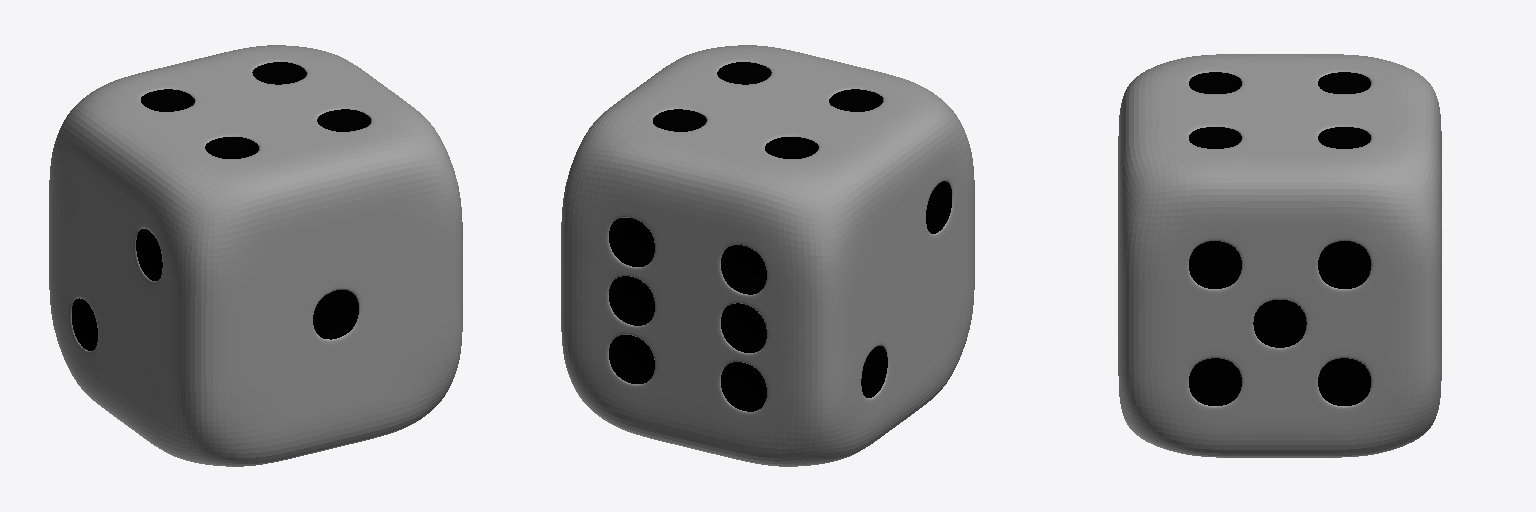
File: dice.obj
3 renders of one model, left to right at view 1: azimuth 30°, elevation 25°; view 2: azimuth 150°, elevation 25°; view 3: azimuth 270°, elevation 25°, orthographic.
Parts seen in each view (by area): view 1: dice; view 2: dice; view 3: dice.
Part boxes in pixels (left/top/right/bottom): dice: left=49, top=45, right=462, bottom=466; dice: left=561, top=45, right=974, bottom=466; dice: left=1118, top=54, right=1441, bottom=457.
Size of the model in its own units: 2 by 2 by 2.